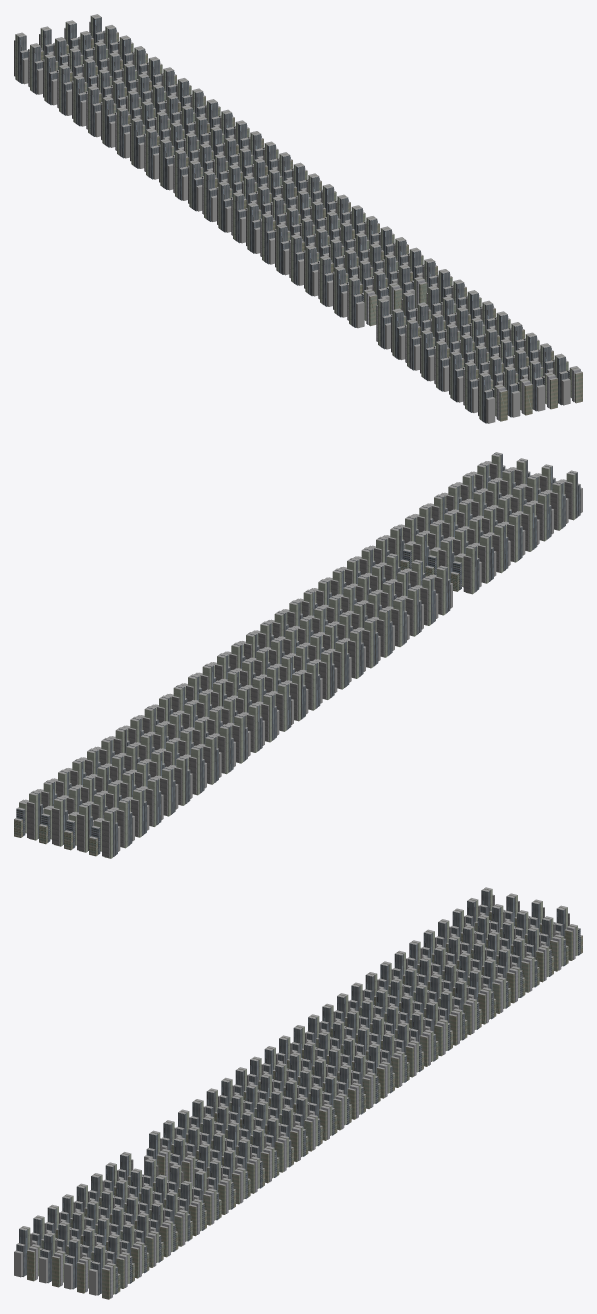
File: map6.obj
3 views of the same model, one above another, from view 1: azimuth 30°, elevation 25°; view 2: azimuth 150°, elevation 25°; view 3: azimuth 330°, elevation 25° (orthographic).
Parts seen in each view (by area): view 1: batiments.123_Cube.1242_Cube.047, batiments.619_Cube.1242_Cube.047, batiments.331_Cube.1242_Cube.047, batiments.027_Cube.1242_Cube.047, batiments.435_Cube.1242_Cube.047, batiments.993_Cube.1242_Cube.047, batiments.563_Cube.1242_Cube.047, batiments.227_Cube.1242_Cube.047, batiments.766_Cube.1242_Cube.047, batiments.272_Cube.1242_Cube.047, batiments.245_Cube.1242_Cube.047, batiments.236_Cube.1242_Cube.047 (+25 smaller); view 2: batiments.101_Cube.1242_Cube.047, batiments.658_Cube.1242_Cube.047, batiments.453_Cube.1242_Cube.047, batiments.045_Cube.1242_Cube.047, batiments.349_Cube.1242_Cube.047, batiments.763_Cube.1242_Cube.047, batiments.224_Cube.1242_Cube.047, batiments.200_Cube.1242_Cube.047, batiments.246_Cube.1242_Cube.047, batiments.121_Cube.1242_Cube.047, batiments.245_Cube.1242_Cube.047, batiments.227_Cube.1242_Cube.047 (+25 smaller); view 3: batiments.435_Cube.1242_Cube.047, batiments.027_Cube.1242_Cube.047, batiments.331_Cube.1242_Cube.047, batiments.123_Cube.1242_Cube.047, batiments.845_Cube.1242_Cube.047, batiments.409_Cube.1242_Cube.047, batiments.580_Cube.1242_Cube.047, batiments.433_Cube.1242_Cube.047, batiments.652_Cube.1242_Cube.047, batiments.835_Cube.1242_Cube.047, batiments.353_Cube.1242_Cube.047, batiments.853_Cube.1242_Cube.047 (+26 smaller).
Boxes of the visible parts, x1,y1,x2,y2 form: batiments.123_Cube.1242_Cube.047: (478, 372, 507, 423); batiments.619_Cube.1242_Cube.047: (347, 276, 377, 328); batiments.331_Cube.1242_Cube.047: (503, 366, 532, 417); batiments.027_Cube.1242_Cube.047: (528, 360, 557, 411); batiments.435_Cube.1242_Cube.047: (553, 353, 582, 405); batiments.993_Cube.1242_Cube.047: (372, 270, 402, 314); batiments.563_Cube.1242_Cube.047: (397, 264, 427, 308); batiments.227_Cube.1242_Cube.047: (101, 96, 130, 147); batiments.766_Cube.1242_Cube.047: (144, 128, 174, 179); batiments.272_Cube.1242_Cube.047: (217, 181, 246, 232); batiments.245_Cube.1242_Cube.047: (449, 351, 478, 402); batiments.236_Cube.1242_Cube.047: (333, 266, 362, 317); batiments.101_Cube.1242_Cube.047: (89, 809, 120, 858); batiments.658_Cube.1242_Cube.047: (450, 544, 481, 594); batiments.453_Cube.1242_Cube.047: (64, 803, 93, 852); batiments.045_Cube.1242_Cube.047: (39, 797, 68, 846); batiments.349_Cube.1242_Cube.047: (14, 790, 43, 840); batiments.763_Cube.1242_Cube.047: (312, 650, 337, 699); batiments.224_Cube.1242_Cube.047: (153, 766, 178, 816); batiments.200_Cube.1242_Cube.047: (500, 512, 525, 562); batiments.246_Cube.1242_Cube.047: (471, 534, 496, 583); batiments.121_Cube.1242_Cube.047: (211, 724, 235, 774); batiments.245_Cube.1242_Cube.047: (529, 491, 553, 541); batiments.227_Cube.1242_Cube.047: (182, 745, 206, 795); batiments.435_Cube.1242_Cube.047: (89, 1244, 120, 1299); batiments.027_Cube.1242_Cube.047: (64, 1238, 92, 1293); batiments.331_Cube.1242_Cube.047: (39, 1232, 67, 1287); batiments.123_Cube.1242_Cube.047: (14, 1226, 42, 1281); batiments.845_Cube.1242_Cube.047: (309, 1085, 337, 1140); batiments.409_Cube.1242_Cube.047: (150, 1202, 178, 1257); batiments.580_Cube.1242_Cube.047: (468, 969, 496, 1024); batiments.433_Cube.1242_Cube.047: (497, 948, 525, 1003); batiments.652_Cube.1242_Cube.047: (121, 1223, 149, 1278); batiments.835_Cube.1242_Cube.047: (511, 937, 539, 992); batiments.353_Cube.1242_Cube.047: (324, 1075, 351, 1130); batiments.853_Cube.1242_Cube.047: (164, 1191, 192, 1246).
Bounding box in the file's own units: 13.58 × 6.17 × 117.
Materials: 20 (10 with a texture image).
